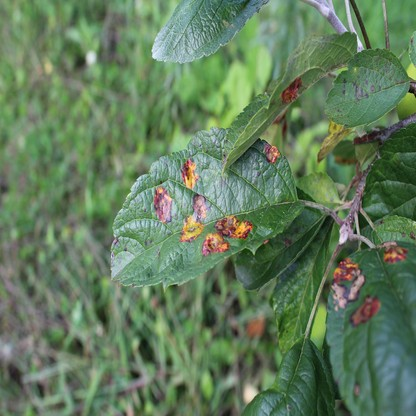rust: (332, 259, 365, 309), (215, 217, 252, 239), (350, 296, 380, 323), (376, 242, 409, 264), (154, 188, 171, 222), (282, 76, 303, 103), (203, 233, 229, 254), (182, 216, 202, 241), (182, 159, 199, 188), (263, 142, 280, 164), (194, 194, 206, 220), (353, 380, 362, 398), (282, 237, 291, 246), (262, 237, 268, 245)
